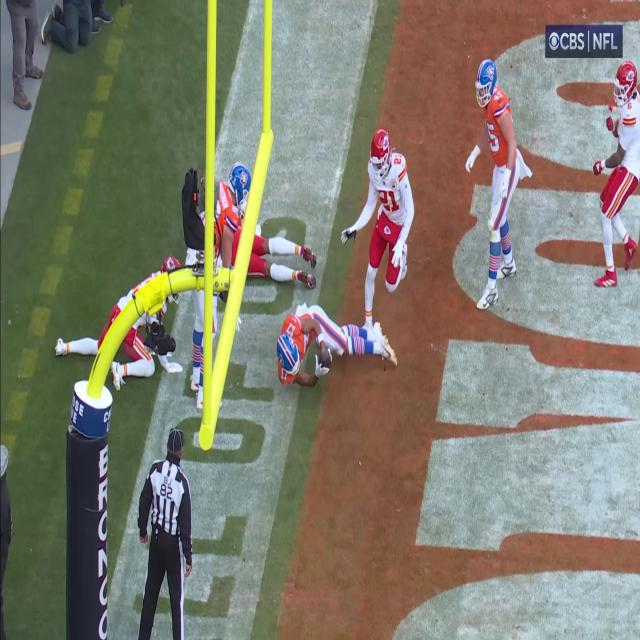Player: (466, 57, 524, 319), (362, 125, 414, 325), (595, 60, 640, 288), (274, 305, 390, 386)
Referee: (138, 426, 194, 638)
